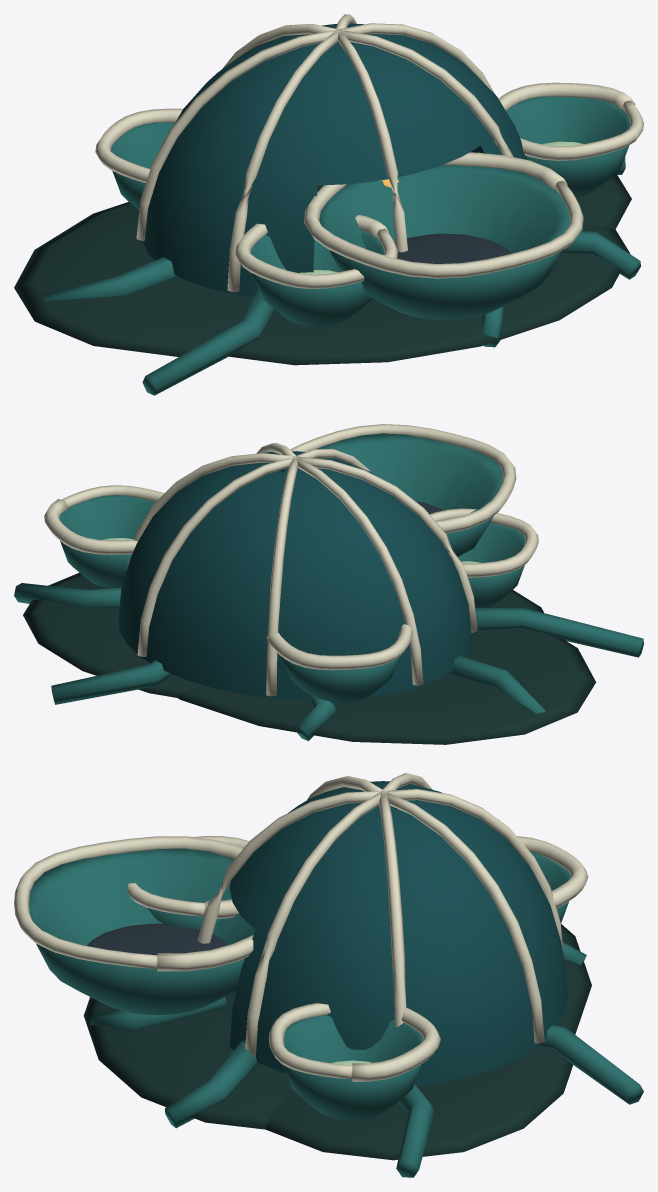
The model's file is building_waste_collector_a.obj.
The picture shows the model from 3 angles, top to bottom: view 1: azimuth 30°, elevation 25°; view 2: azimuth 150°, elevation 25°; view 3: azimuth 270°, elevation 25°; orthographic projection. The views are drawn at different scales.
Parts seen in each view (by area): view 1: inhabited_shell.015, open_living_cup.039, irregular_anchoring_lobe.039, irregular_anchoring_lobe.041, grown_cup_lip.039, open_living_cup.036, open_living_cup.038, grown_cup_lip.036, anchoring_root.095, growth_seam.108, grown_cup_lip.038, growth_seam.109 (+11 smaller); view 2: inhabited_shell.015, irregular_anchoring_lobe.039, open_living_cup.039, irregular_anchoring_lobe.040, open_living_cup.036, grown_cup_lip.039, anchoring_root.095, open_living_cup.037, open_living_cup.038, grown_cup_lip.036, growth_seam.106, growth_seam.108 (+11 smaller); view 3: inhabited_shell.015, open_living_cup.039, irregular_anchoring_lobe.040, irregular_anchoring_lobe.041, open_living_cup.036, grown_cup_lip.039, grown_cup_lip.036, growth_seam.106, growth_seam.111, visible_cup_contents.039, growth_seam.105, anchoring_root.092 (+11 smaller).
Part boxes in pixels (x1,y1,x2,y2): inhabited_shell.015: (142, 23, 527, 296); open_living_cup.039: (319, 165, 570, 320); irregular_anchoring_lobe.039: (14, 202, 252, 356); irregular_anchoring_lobe.041: (229, 225, 630, 365); grown_cup_lip.039: (303, 152, 583, 278); open_living_cup.036: (506, 96, 630, 197); open_living_cup.038: (250, 230, 384, 326); grown_cup_lip.036: (499, 82, 643, 160); anchoring_root.095: (142, 289, 274, 395); growth_seam.108: (136, 29, 338, 240); grown_cup_lip.038: (235, 214, 397, 288); growth_seam.109: (227, 30, 340, 292); inhabited_shell.015: (118, 451, 472, 700); irregular_anchoring_lobe.039: (178, 629, 595, 744); open_living_cup.039: (317, 433, 502, 556); irregular_anchoring_lobe.040: (23, 572, 202, 697); open_living_cup.036: (59, 495, 155, 588); grown_cup_lip.039: (290, 424, 516, 533); anchoring_root.095: (475, 608, 643, 657); open_living_cup.037: (281, 635, 398, 704); open_living_cup.038: (457, 522, 525, 607); grown_cup_lip.036: (44, 485, 164, 554); growth_seam.106: (137, 456, 295, 656); growth_seam.108: (294, 457, 423, 685); inhabited_shell.015: (229, 781, 567, 1085); open_living_cup.039: (29, 848, 255, 1015); irregular_anchoring_lobe.040: (265, 1046, 572, 1160); irregular_anchoring_lobe.041: (83, 991, 290, 1129); open_living_cup.036: (283, 1015, 423, 1120); grown_cup_lip.039: (14, 836, 253, 971); grown_cup_lip.036: (269, 1003, 440, 1081); growth_seam.106: (382, 791, 544, 1043); growth_seam.111: (245, 791, 384, 1056); visible_cup_contents.039: (87, 923, 227, 955); growth_seam.105: (379, 792, 406, 1026); anchoring_root.092: (537, 1025, 643, 1104).
Bounding box in the file's own units: 3.59 × 1.29 × 3.07.
